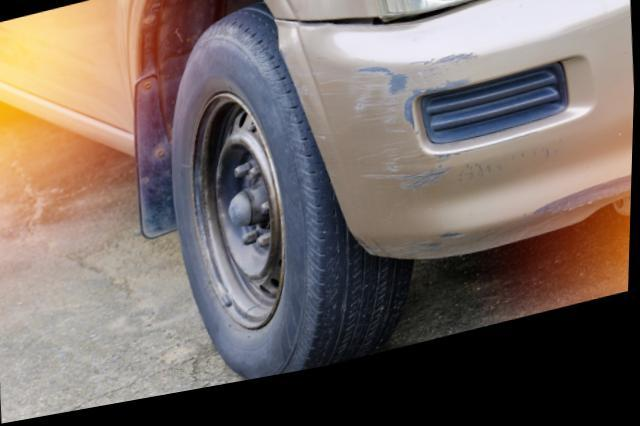scratch: (301, 68, 478, 214), (532, 199, 633, 235), (456, 164, 561, 196), (371, 248, 470, 274)
